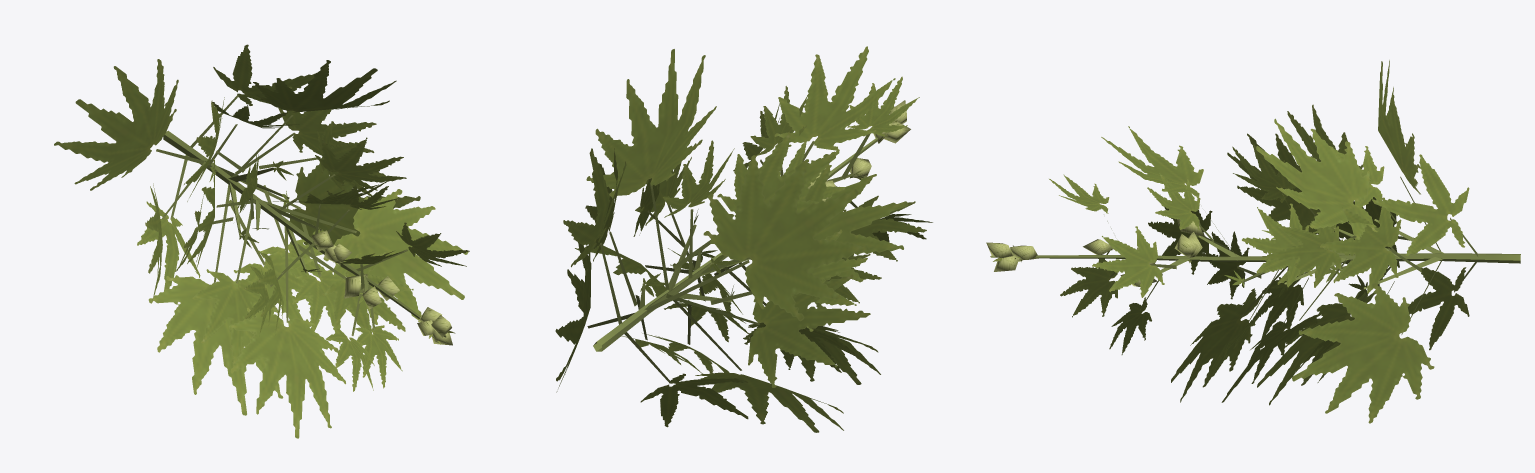
Rendered from p_male_haze_preflower_c1_cards.obj.
3 views of the same model, side by side, from view 1: azimuth 30°, elevation 25°; view 2: azimuth 150°, elevation 25°; view 3: azimuth 270°, elevation 25° (orthographic). The views are drawn at different scales.
Size of the model in its own units: 1.32 by 1.21 by 1.58.
Materials: 1 (1 with a texture image).
